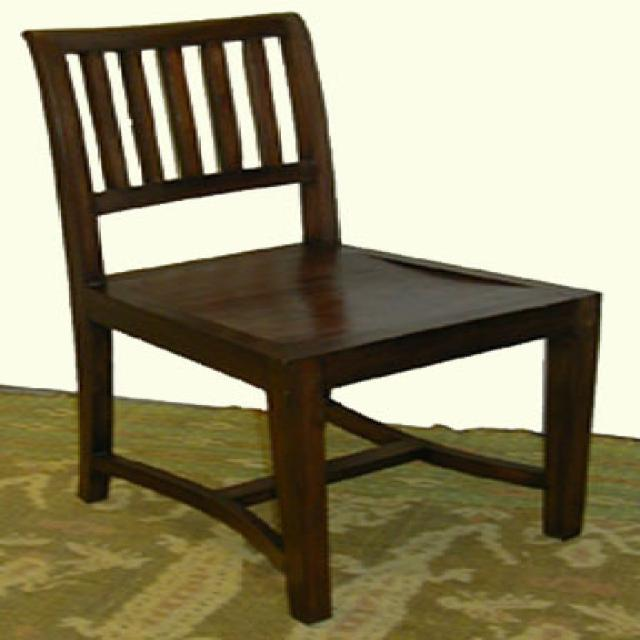chair: (21, 9, 604, 634)
